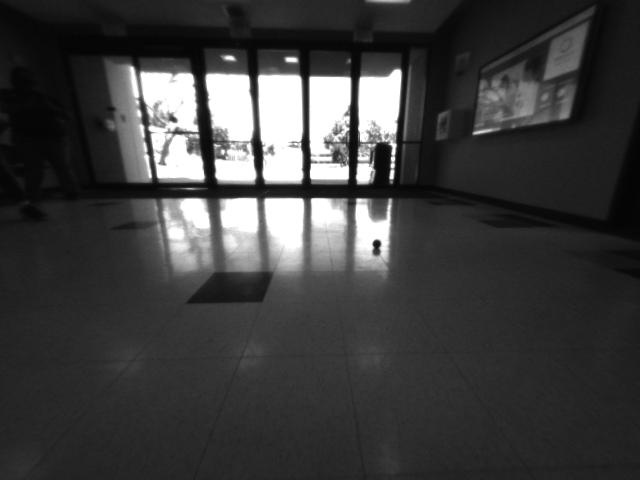dogtoy: (360, 232, 390, 253)
